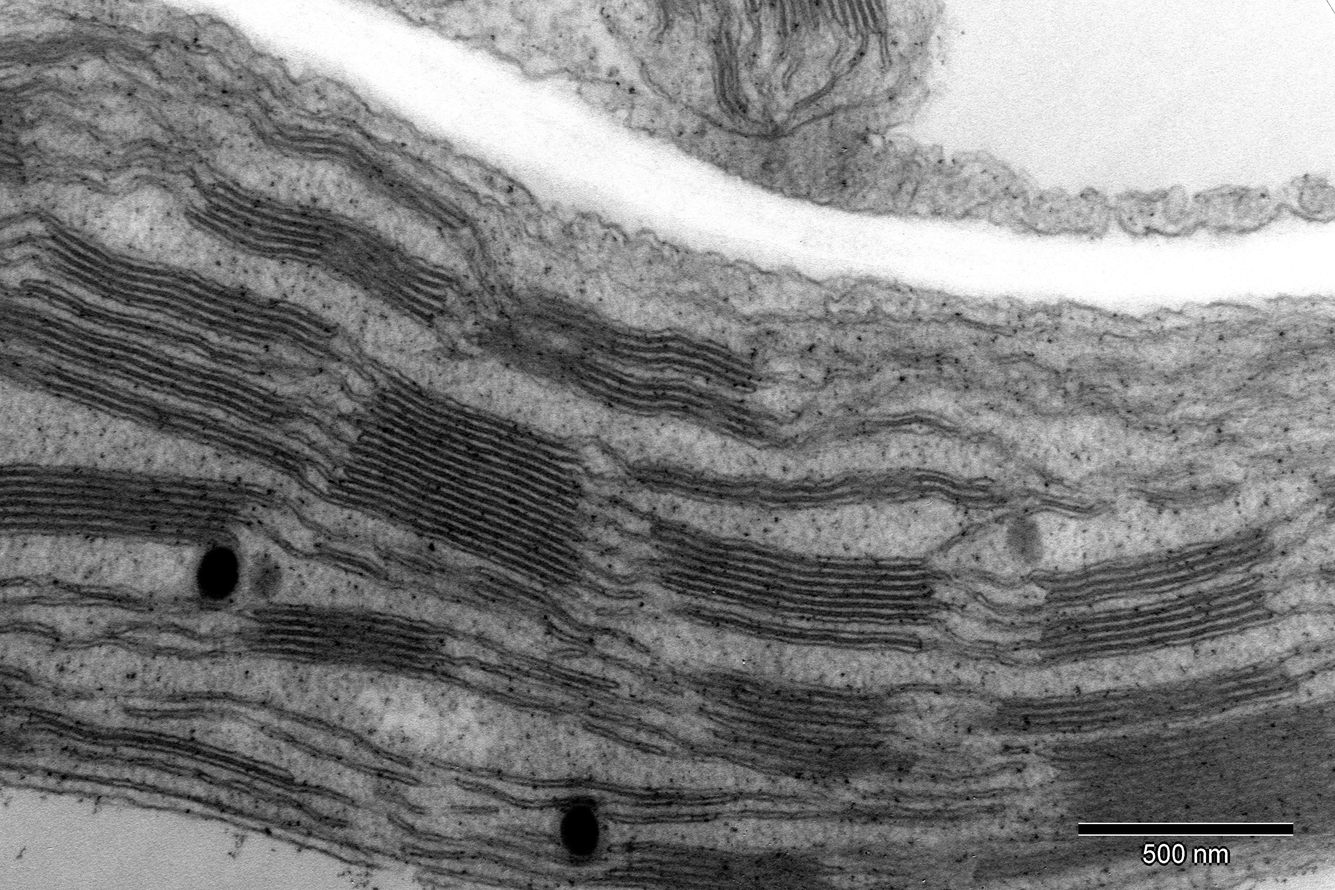granum: (322, 363, 590, 599), (35, 214, 340, 361), (1, 347, 313, 487), (0, 296, 306, 433), (195, 173, 458, 332), (473, 318, 787, 451), (1050, 689, 1334, 821), (647, 512, 936, 628), (675, 656, 904, 781), (515, 287, 756, 395), (992, 652, 1297, 737), (270, 122, 475, 242), (1036, 573, 1278, 671), (1, 462, 253, 548), (643, 453, 995, 511), (241, 599, 460, 688), (1043, 523, 1272, 608), (602, 835, 823, 890), (495, 646, 623, 710), (1, 28, 138, 76), (769, 0, 890, 40), (705, 30, 752, 123), (0, 85, 29, 185)
